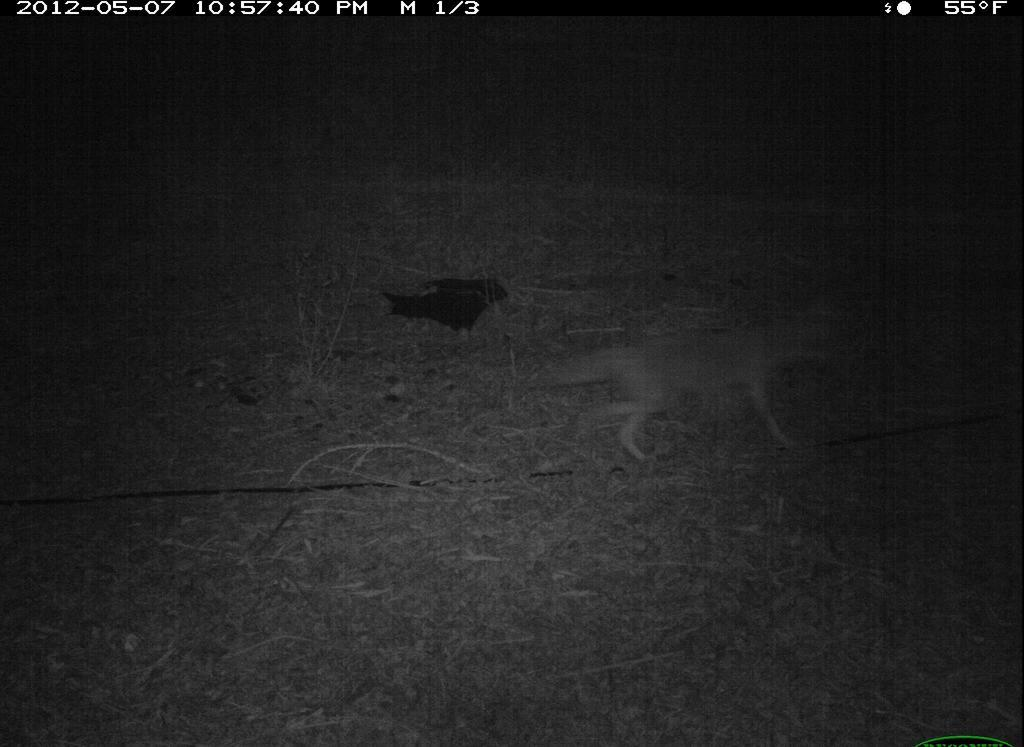coyote: (569, 285, 857, 474)
